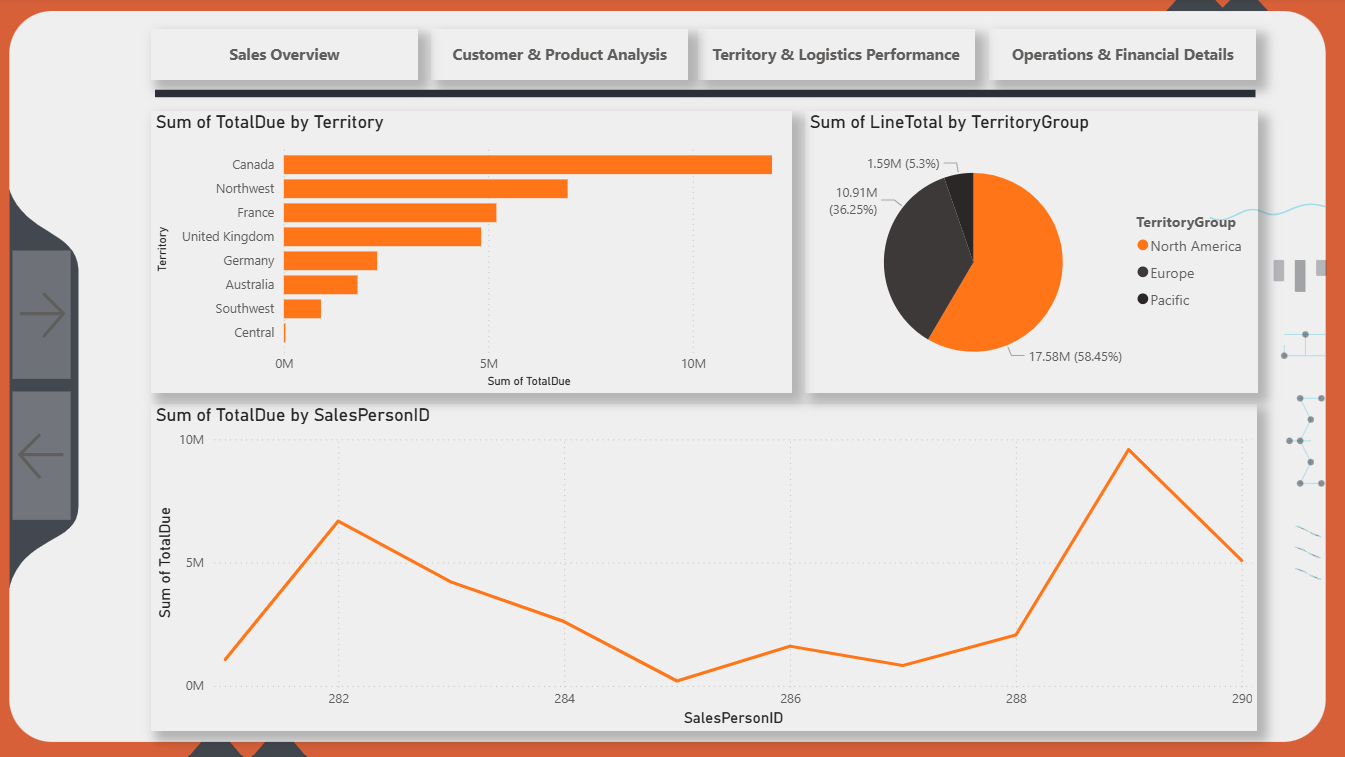

This screenshot's page, from the dashboard's own definition file:
{"tool":"powerbi","page":{"name":"Territory & Logistics Performance","canvas":[1280,720],"ordinal":2},"visuals":[{"type":"barChart","fields":{"Category":["Fact Sales.Territory"],"Y":["Sum(Fact Sales.TotalDue)"]},"box":[153.2,106.5,603.2,264.5],"z":0},{"type":"pieChart","fields":{"Category":["Fact Sales.TerritoryGroup"],"Y":["Sum(Fact Sales.LineTotal)"]},"box":[767.7,106.5,425.8,264.5],"z":1000},{"type":"lineChart","fields":{"Category":["Fact Sales.SalesPersonID"],"Y":["Sum(Fact Sales.TotalDue)"]},"box":[153.2,382.3,1040.3,308.1],"z":2000},{"type":"actionButton","box":[941.9,29,251.6,48.4],"z":3000},{"type":"actionButton","box":[667.7,29,259.7,48.4],"z":4000},{"type":"actionButton","box":[417.7,29,241.9,48.4],"z":5000},{"type":"actionButton","box":[153.2,29,251.6,48.4],"z":6000},{"type":"actionButton","box":[24.2,238.7,54.8,121],"z":7000},{"type":"actionButton","box":[24.2,371,54.8,121],"z":8000}]}

Visuals, with their boxes in screenshot pixels (x1, y1, x2, y2), scaled from the page's 1280x720 canvas onto the 1345x757 screenshot:
barChart - Fact Sales.Territory x Sum(Fact Sales.TotalDue): [x1=161, y1=112, x2=795, y2=390]
pieChart - Fact Sales.TerritoryGroup x Sum(Fact Sales.LineTotal): [x1=807, y1=112, x2=1254, y2=390]
lineChart - Fact Sales.SalesPersonID x Sum(Fact Sales.TotalDue): [x1=161, y1=402, x2=1254, y2=726]
actionButton: [x1=990, y1=30, x2=1254, y2=81]
actionButton: [x1=702, y1=30, x2=974, y2=81]
actionButton: [x1=439, y1=30, x2=693, y2=81]
actionButton: [x1=161, y1=30, x2=425, y2=81]
actionButton: [x1=25, y1=251, x2=83, y2=378]
actionButton: [x1=25, y1=390, x2=83, y2=517]
